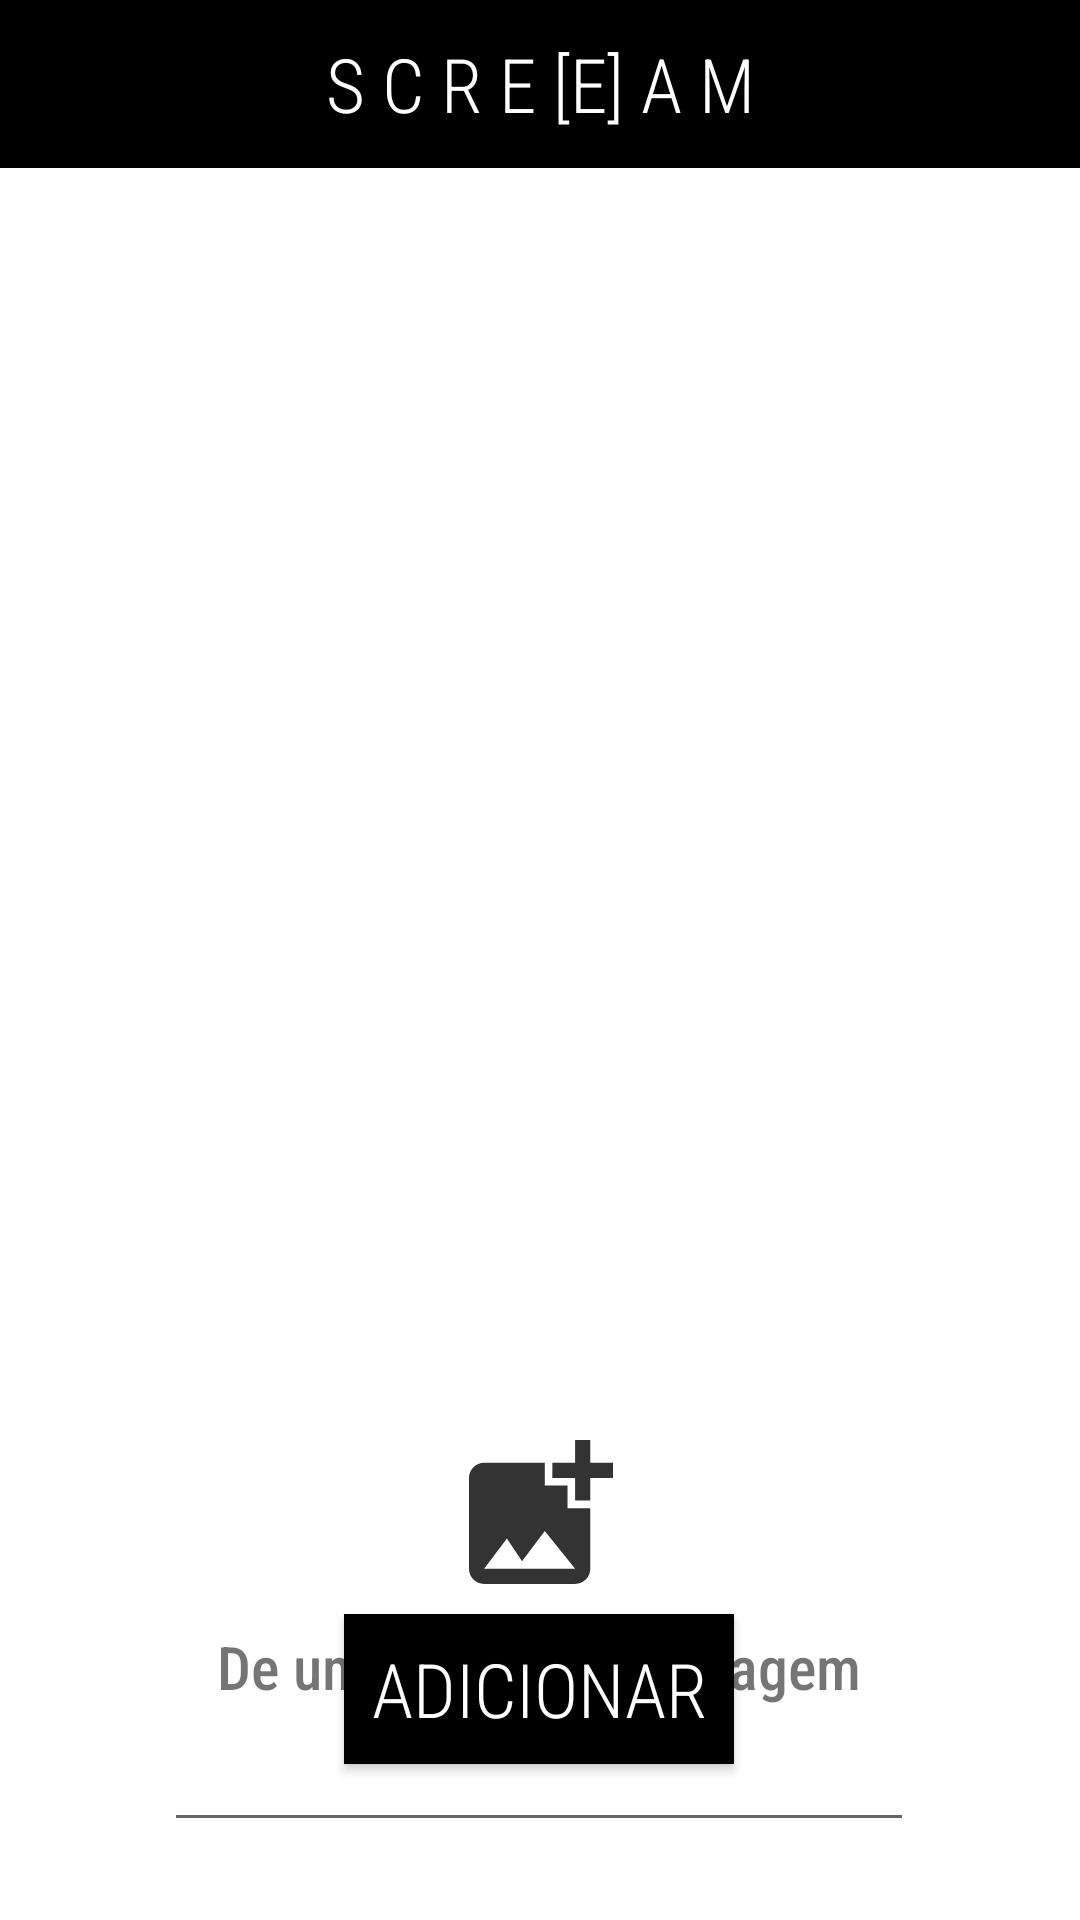

Point at icon controls on the screen. Image size 1080 × 1920, points as [x,y].
add: [541,1512]
